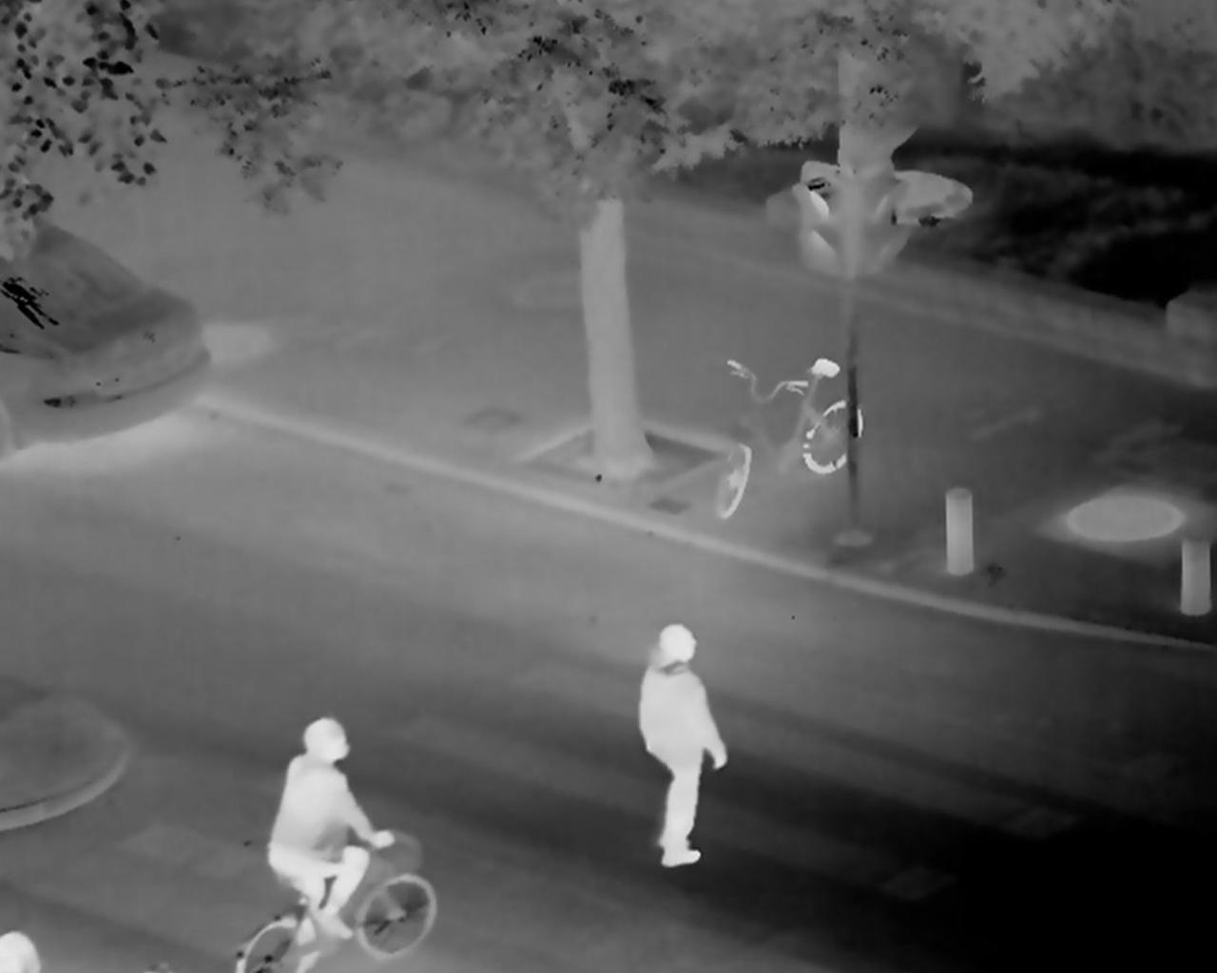person: (263, 716, 398, 967), (635, 624, 726, 871)
